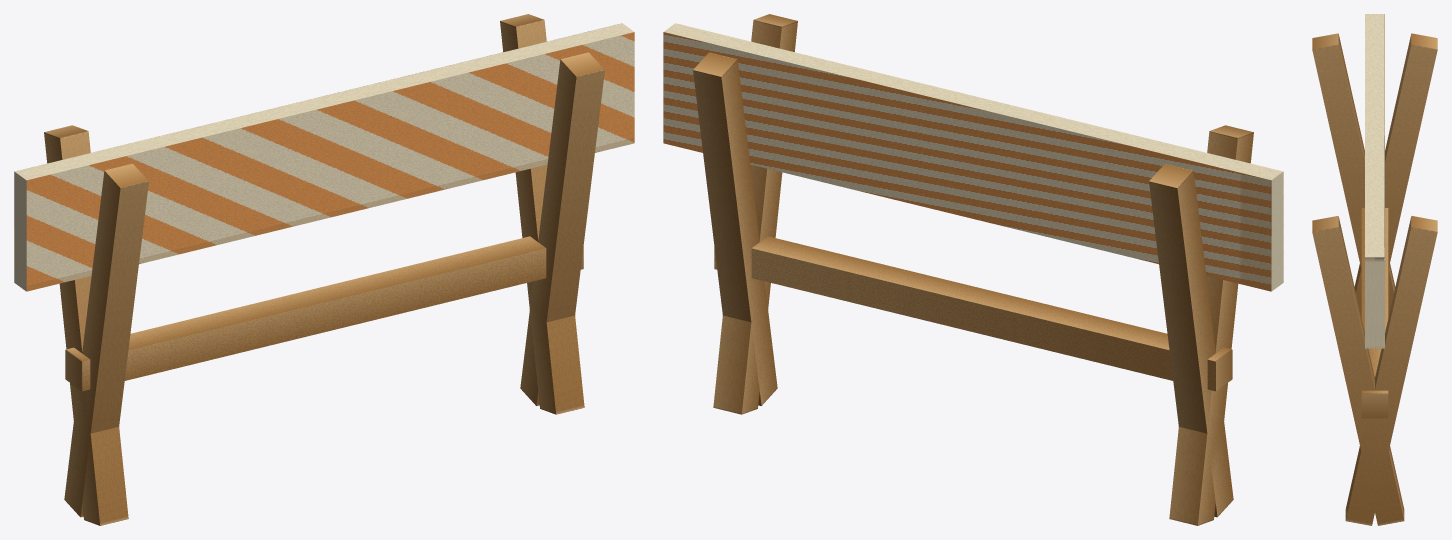
The model's file is Prop_Barrier.fbx.
The picture shows the model from 3 angles, left to right: view 1: azimuth 30°, elevation 25°; view 2: azimuth 150°, elevation 25°; view 3: azimuth 270°, elevation 25°; orthographic projection. The views are drawn at different scales.
Visible parts, largest first — view 1: Prop_Barrier; view 2: Prop_Barrier; view 3: Prop_Barrier.
Part boxes in pixels (<box>): Prop_Barrier: <box>14,14,634,525</box>; Prop_Barrier: <box>663,14,1283,525</box>; Prop_Barrier: <box>1312,14,1437,525</box>.
Size of the model in its own units: 160 by 91.66 by 34.91.
Materials: 1 (1 with a texture image).
